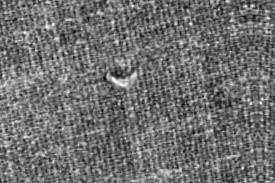snag: (101, 66, 140, 89)
